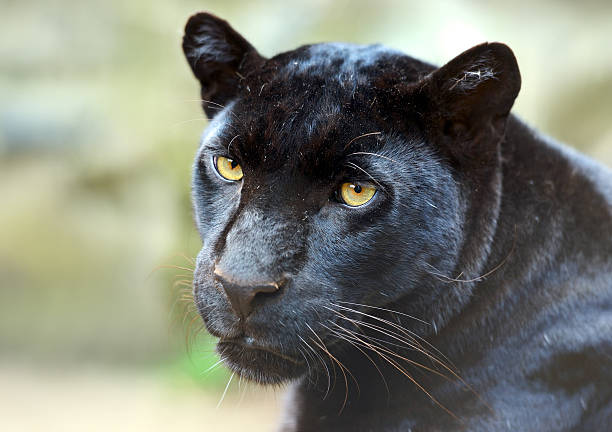panther: (157, 4, 538, 409)
